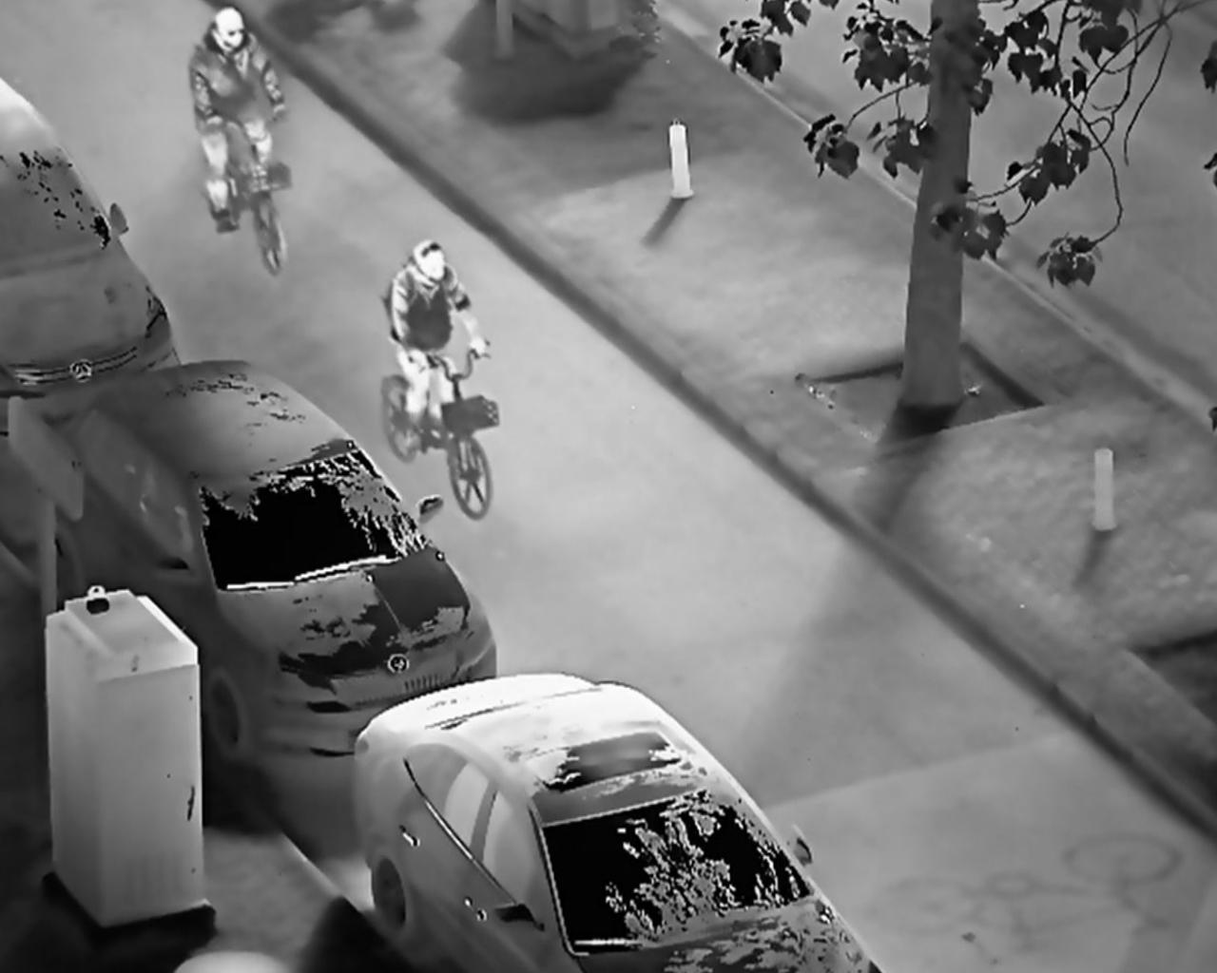person: (384, 237, 495, 452), (185, 4, 287, 224)
